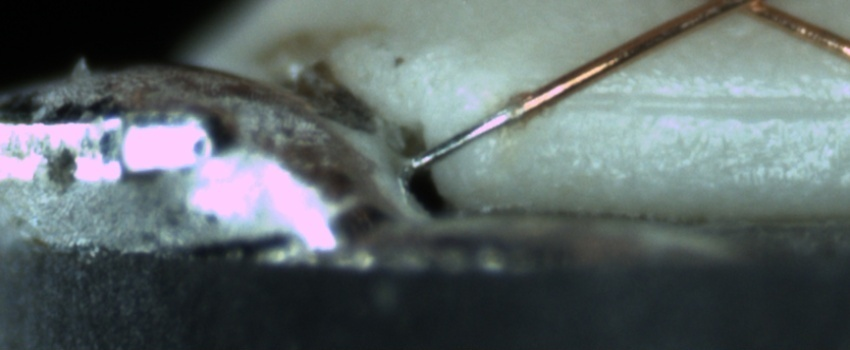CL: (703, 0, 787, 21)
DL: (535, 72, 849, 136)
TS: (407, 101, 524, 170)
TTCW: (410, 74, 567, 171)
